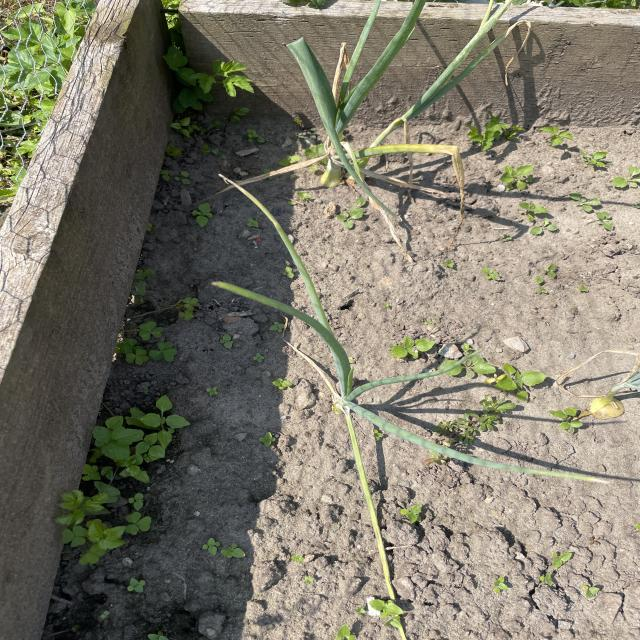Onion: (240, 270, 467, 489), (280, 36, 458, 204), (591, 371, 640, 426)
weed: (21, 391, 194, 572), (148, 42, 262, 124), (109, 312, 177, 378), (486, 360, 552, 405), (459, 110, 516, 157), (530, 118, 596, 153), (382, 327, 438, 367), (520, 197, 564, 240), (493, 162, 543, 194), (389, 502, 432, 531), (190, 193, 223, 230), (611, 160, 640, 195), (582, 152, 619, 172)
